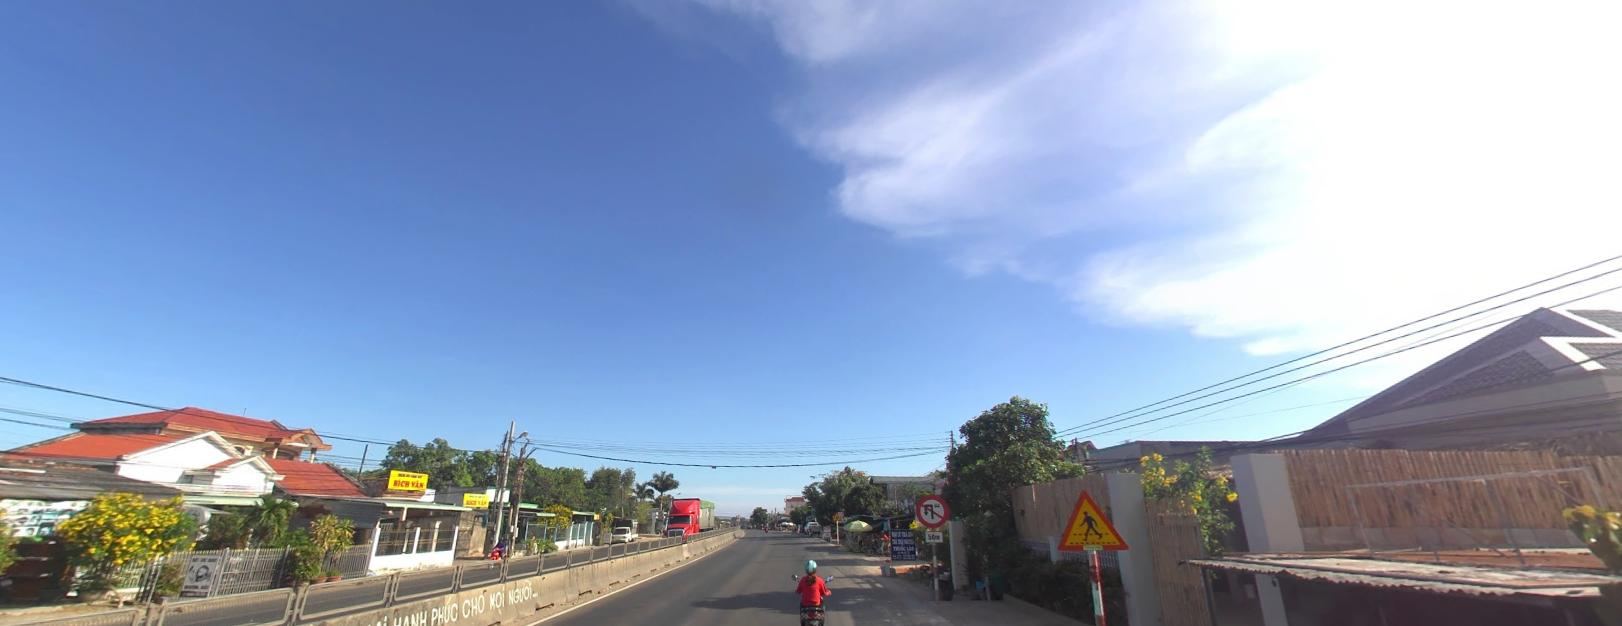Cam re: (914, 491, 947, 527)
Nguy hiem: (1056, 486, 1129, 553), (832, 512, 842, 520)
